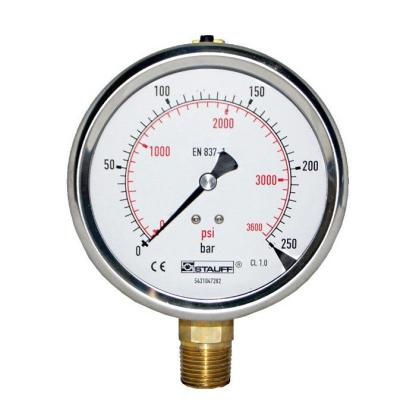needle: (146, 185, 206, 244)
